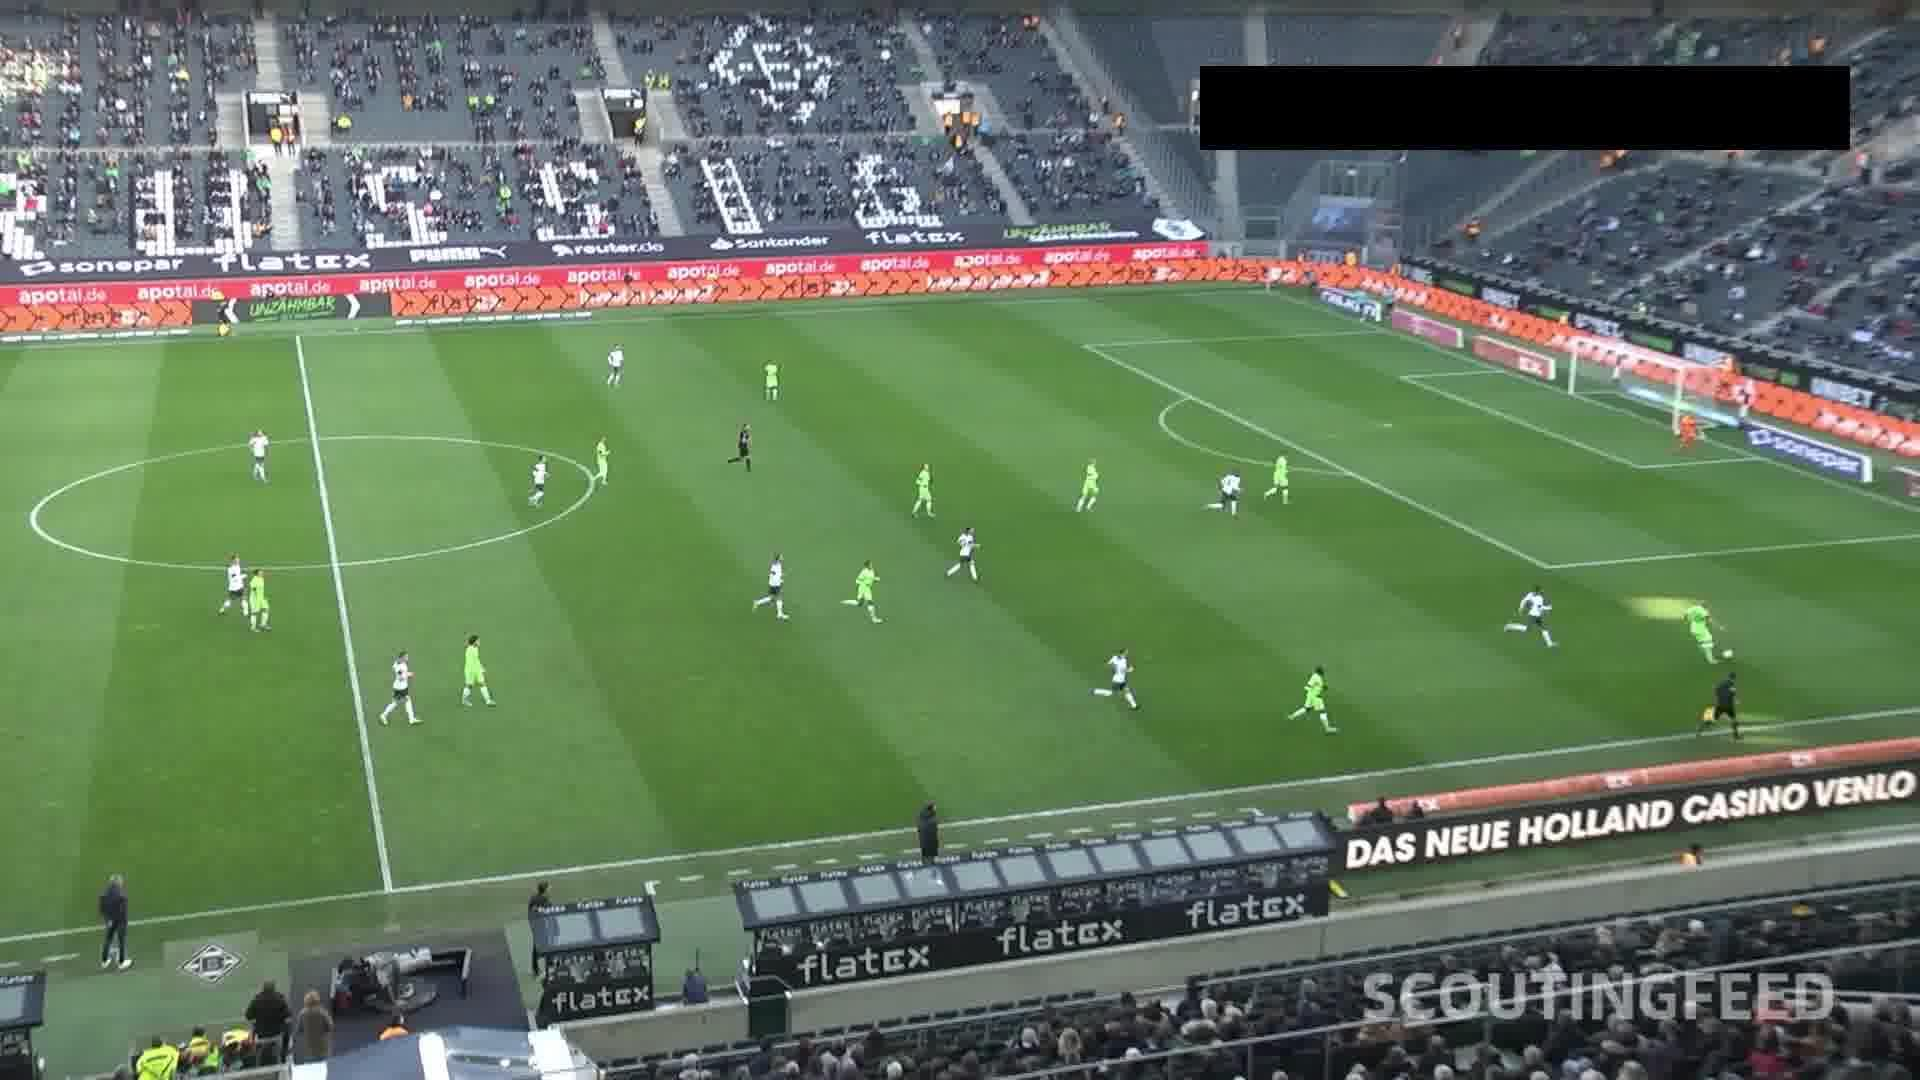football: (1721, 649, 1735, 659)
